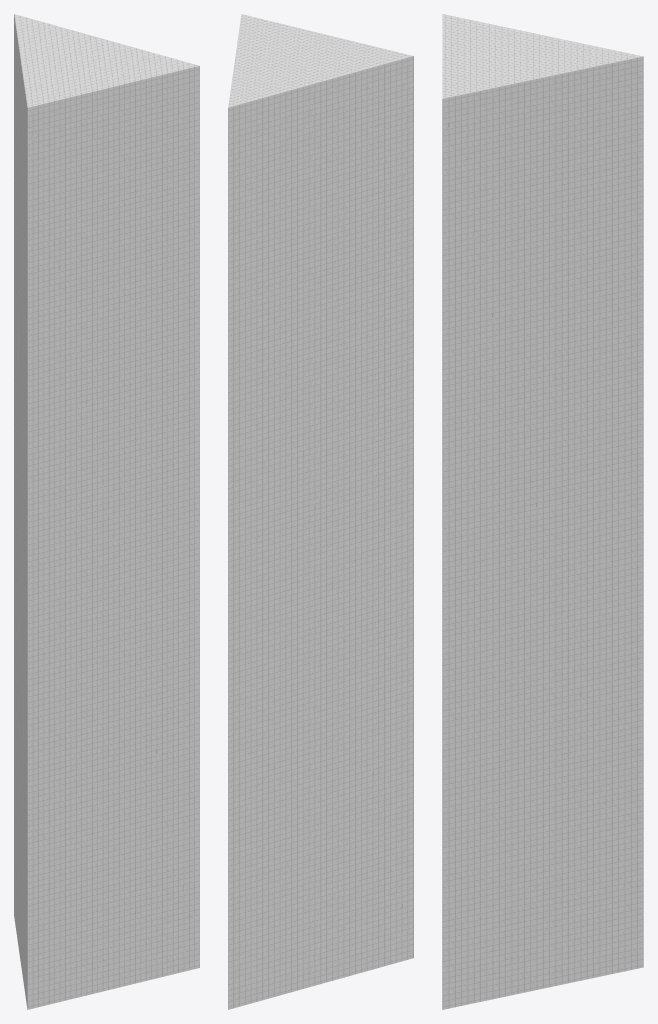
File: TriCol.fbx
3 renders of one model, left to right at view 1: azimuth 30°, elevation 25°; view 2: azimuth 150°, elevation 25°; view 3: azimuth 270°, elevation 25°, orthographic.
Parts seen in each view (by area): view 1: TriCol; view 2: TriCol; view 3: TriCol.
Boxes of the visible parts, left/top/right/bottom form: TriCol: left=14, top=14, right=199, bottom=1009; TriCol: left=228, top=14, right=413, bottom=1009; TriCol: left=442, top=14, right=643, bottom=1009.
Size of the model in its own units: 10 by 10 by 50.
